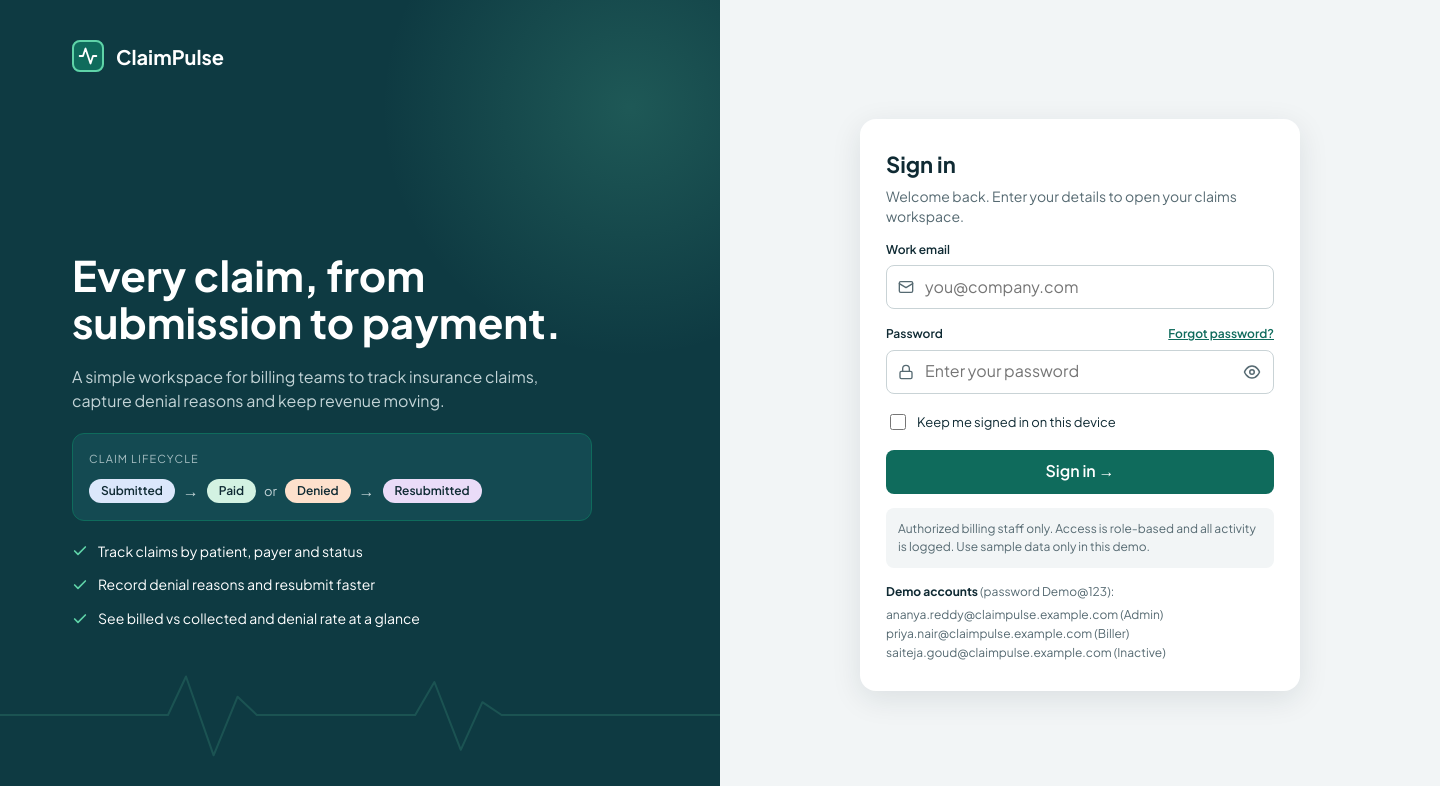
Test: Dashboard › rejects a member ID that belongs to another patient
Type "ananya.reddy@claimpulse.example.com" into the field labelled "Work email" at (1080, 287), box [886,265,1274,309]
Type "Demo@123" into the password field labelled "Password" at (1080, 372), box [886,350,1274,394]
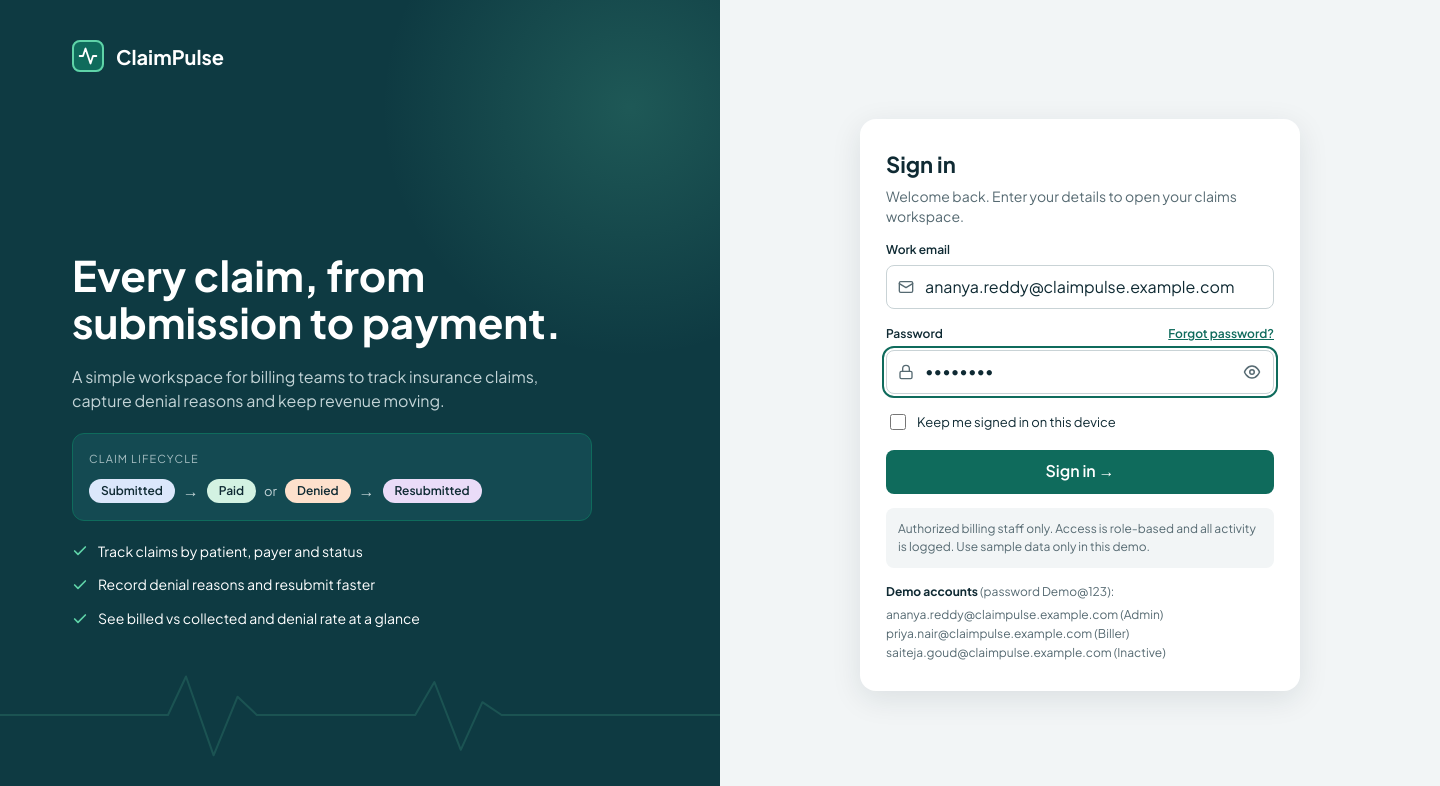
Click the button "Sign in →" at (1080, 472), box [886,450,1274,494]
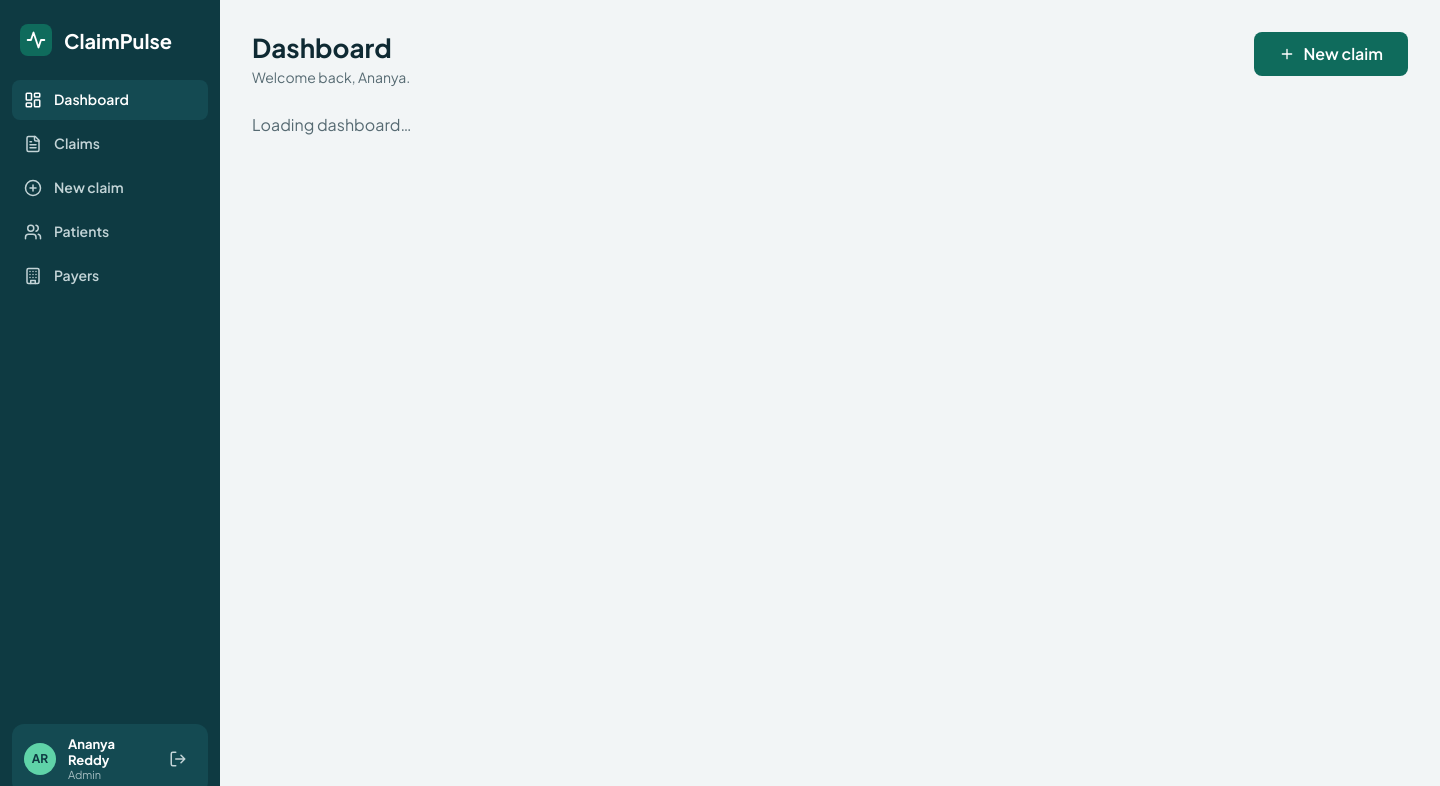
expect the heading "Dashboard" is shown: met, box [252,32,410,63]
Click the link "Patients" at (67, 232), box [24,222,109,241]
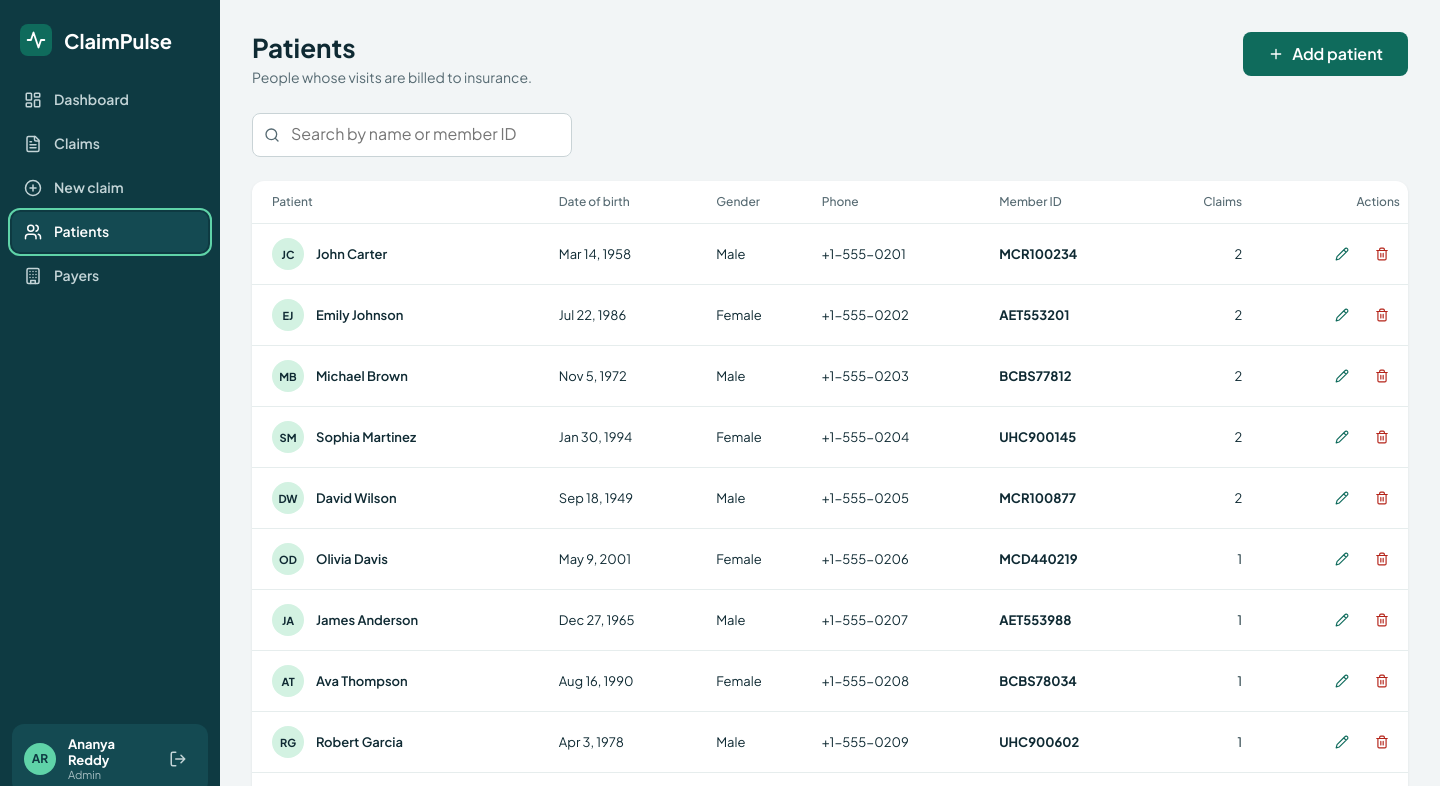
Click the button named "Edit John Carter" at (1342, 254), box [1324,236,1360,272]
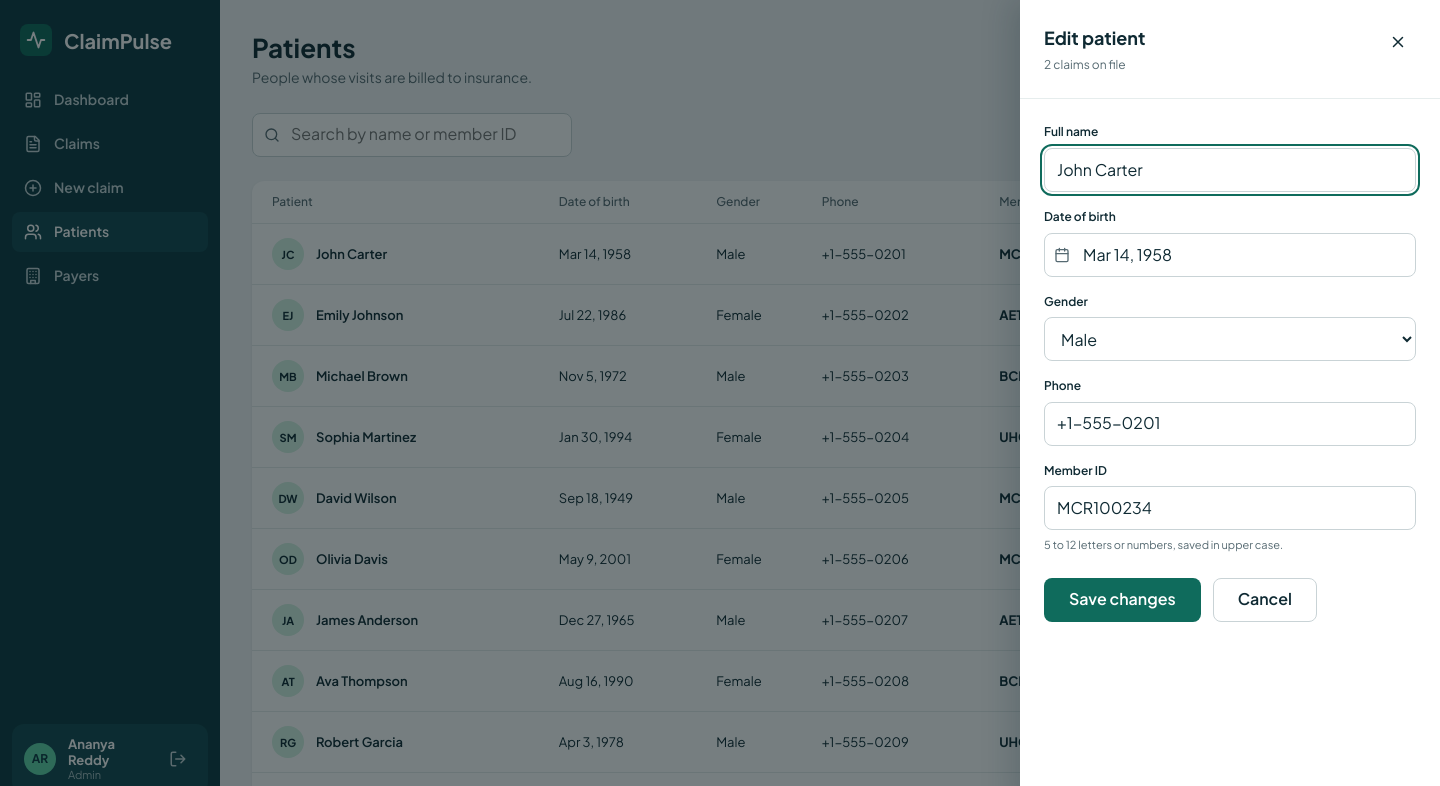
Replace the text in the field labelled "Member ID" with "aet553201" at (1230, 508), box [1044,486,1416,530]
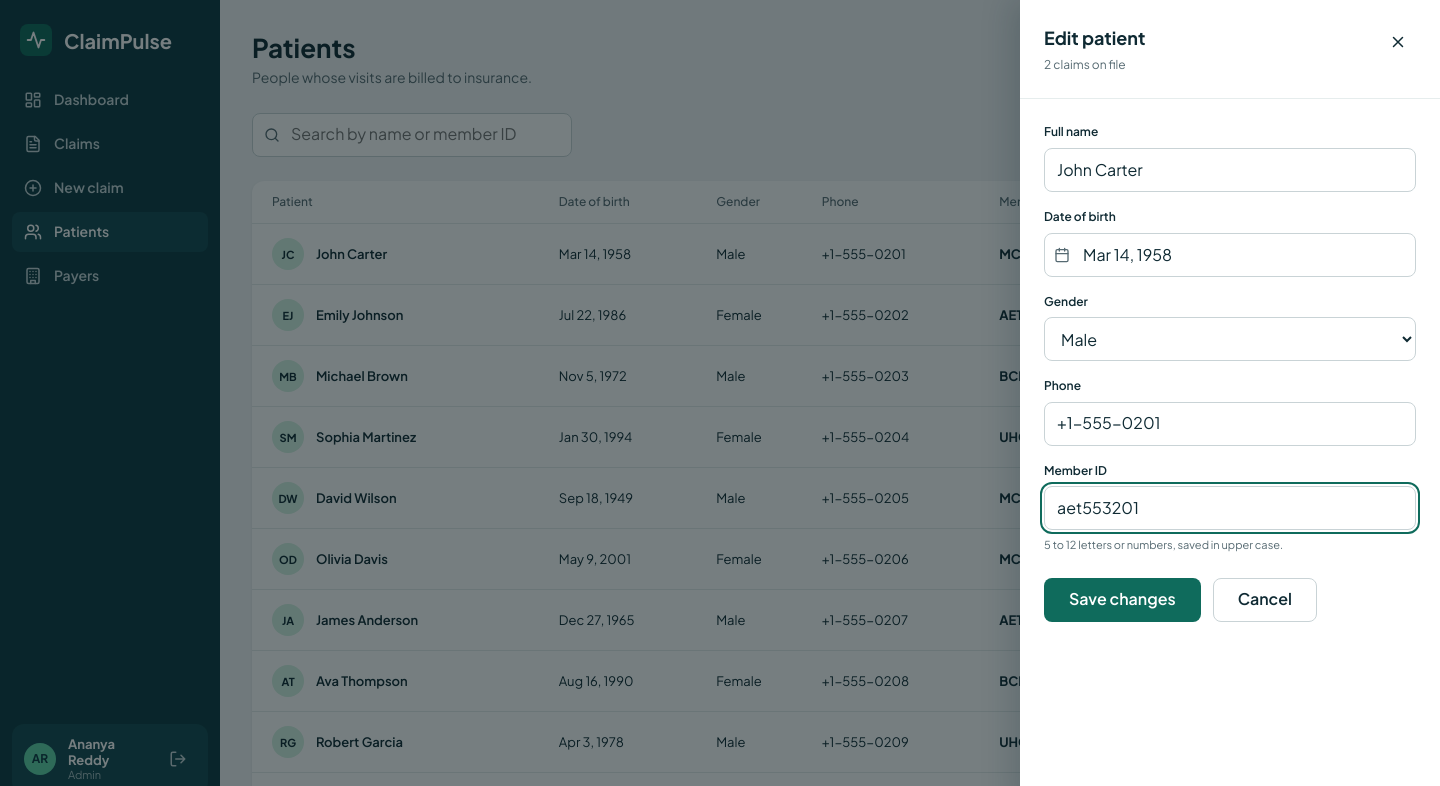
Click the button "Save changes" at (1122, 600), box [1044,578,1201,622]
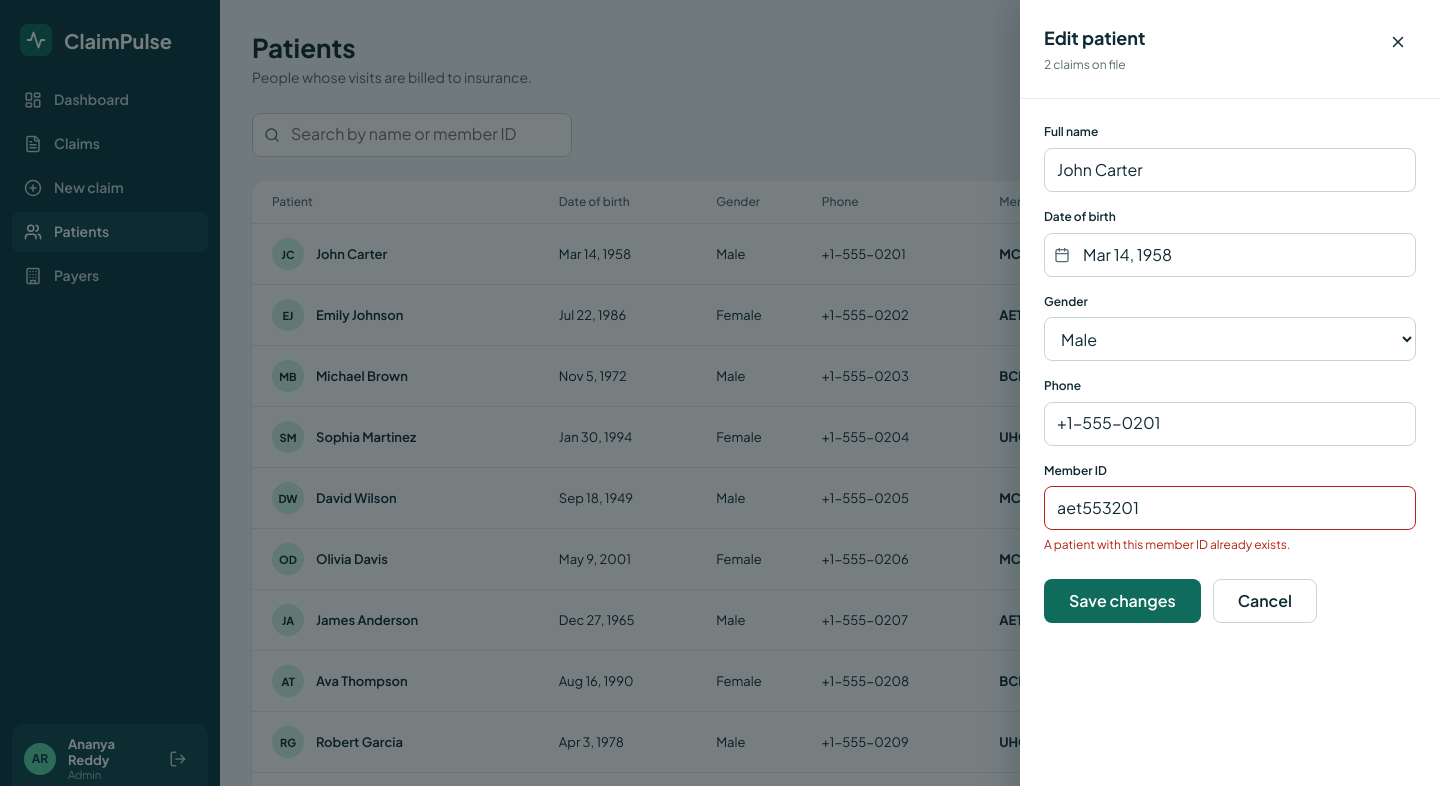
expect the text "A patient with this member ID already exists." is shown: met, box [1044,538,1290,552]
